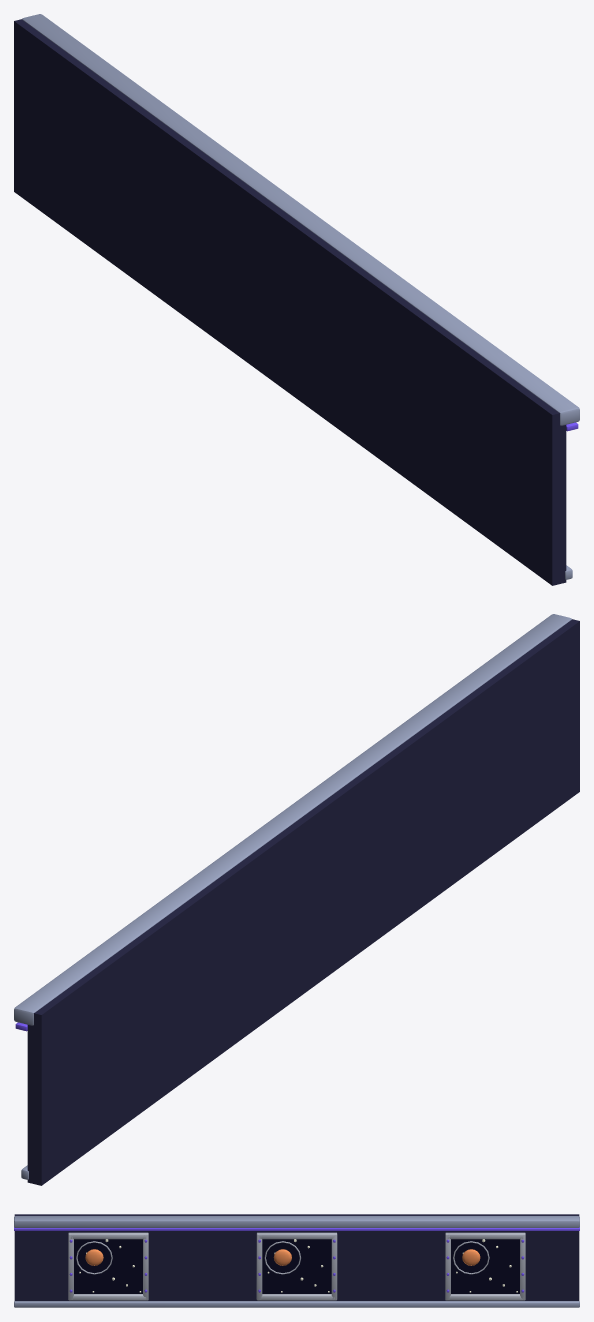
Rendered from WallSpace.fbx.
The picture shows the model from 3 angles, top to bottom: view 1: azimuth 30°, elevation 25°; view 2: azimuth 150°, elevation 25°; view 3: azimuth 270°, elevation 25°; orthographic projection. The views are drawn at different scales.
Visible parts, largest first — view 1: WallSpace; view 2: WallSpace; view 3: WallSpace.
Part boxes in pixels (x1=…): WallSpace: x1=14, y1=14, x2=579, y2=585; WallSpace: x1=14, y1=614, x2=579, y2=1185; WallSpace: x1=14, y1=1214, x2=579, y2=1307.
Bounding box in the file's own units: 240 × 1410 × 8020.
